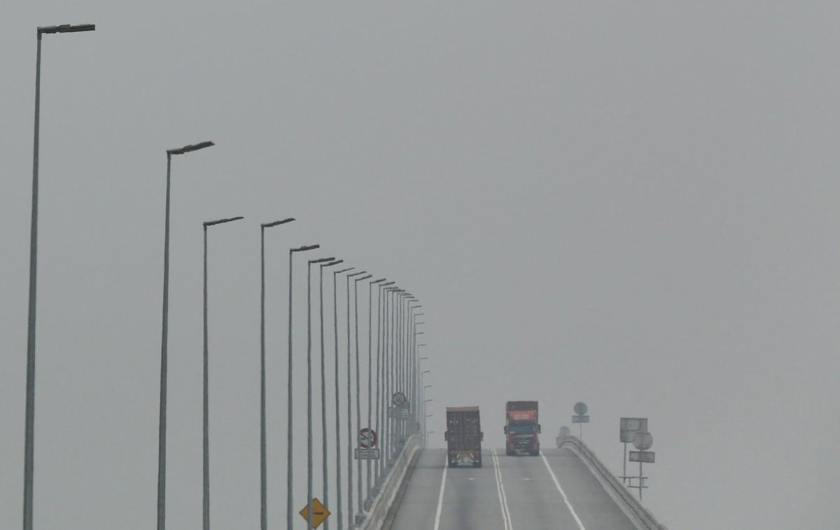bus: (443, 405, 485, 470), (502, 399, 543, 458)
